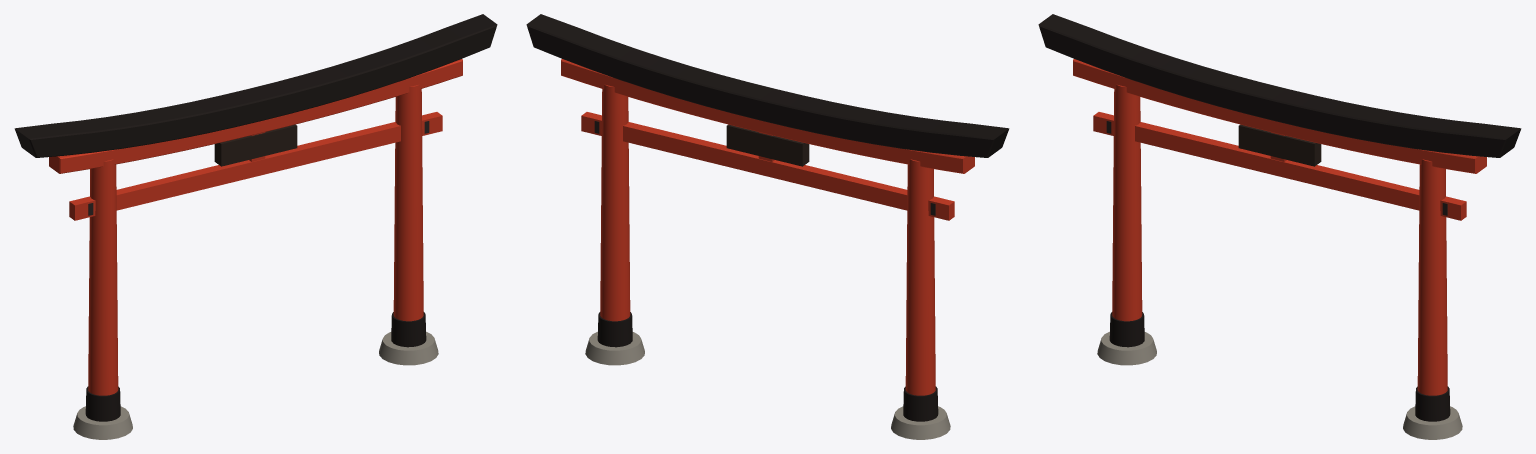
File: torii.glb
3 renders of one model, left to right at view 1: azimuth 30°, elevation 25°; view 2: azimuth 150°, elevation 25°; view 3: azimuth 330°, elevation 25°, orthographic.
Parts seen in each view (by area): view 1: black12, vermilion8, vermilion2, vermilion6, vermilion11, plaque10, stone4, stone0, black1, black5; view 2: black12, vermilion8, vermilion2, vermilion6, vermilion11, plaque10, stone4, stone0, black1, black5; view 3: black12, vermilion8, vermilion6, vermilion2, vermilion11, plaque10, stone0, stone4, black5, black1.
Boxes of the visible parts, x1,y1,x2,y2 form: black12: [14, 14, 497, 157]; vermilion8: [69, 112, 442, 220]; vermilion2: [88, 159, 118, 395]; vermilion6: [393, 84, 423, 321]; vermilion11: [49, 59, 462, 173]; plaque10: [214, 124, 297, 166]; stone4: [379, 331, 438, 365]; stone0: [73, 406, 132, 439]; black1: [85, 386, 120, 421]; black5: [391, 312, 426, 347]; black12: [526, 14, 1009, 157]; vermilion8: [581, 112, 954, 220]; vermilion2: [905, 159, 935, 395]; vermilion6: [600, 84, 630, 321]; vermilion11: [561, 59, 974, 173]; plaque10: [726, 124, 809, 166]; stone4: [585, 331, 644, 365]; stone0: [891, 406, 950, 439]; black1: [903, 386, 938, 421]; black5: [597, 312, 632, 347]; black12: [1038, 14, 1521, 157]; vermilion8: [1093, 112, 1466, 220]; vermilion6: [1417, 159, 1447, 395]; vermilion2: [1112, 84, 1142, 321]; vermilion11: [1073, 59, 1486, 173]; plaque10: [1238, 124, 1321, 166]; stone0: [1097, 331, 1156, 365]; stone4: [1403, 406, 1462, 439]; black5: [1415, 386, 1450, 421]; black1: [1109, 312, 1144, 347].
Bounding box in the file's own units: 8.28 × 5.3 × 0.92.
